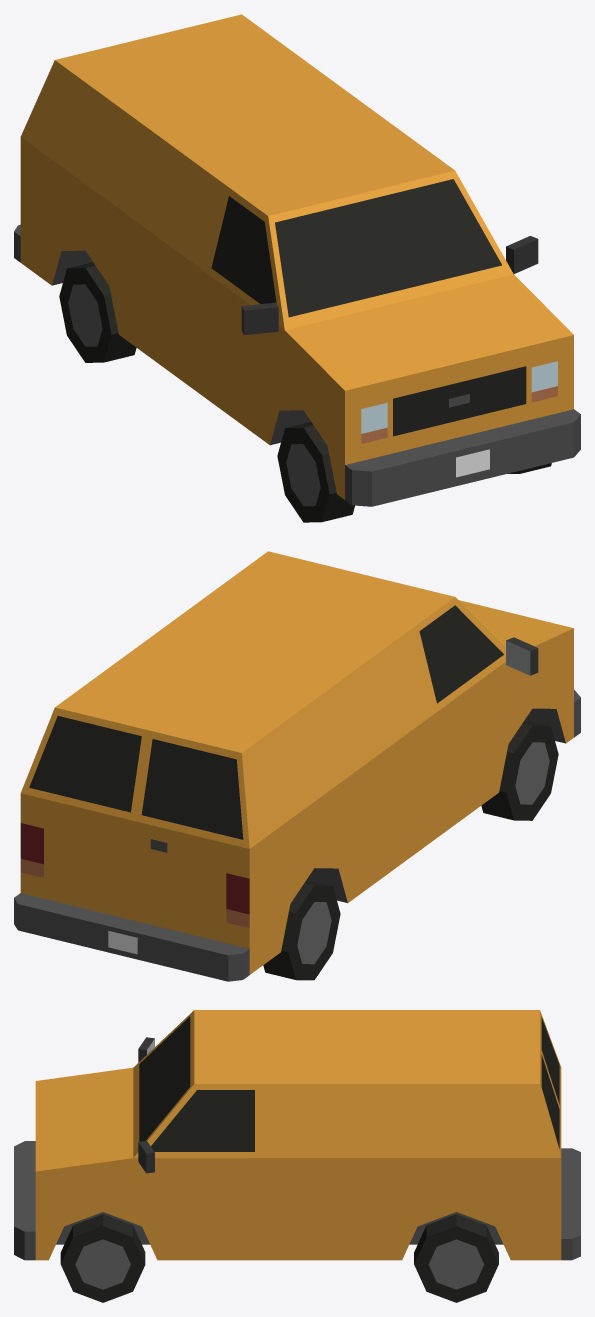
The model's file is Veh_Van_01_Yellow.glb.
3 views of the same model, one above another, from view 1: azimuth 30°, elevation 25°; view 2: azimuth 150°, elevation 25°; view 3: azimuth 270°, elevation 25° (orthographic). The views are drawn at different scales.
Parts seen in each view (by area): view 1: Van_01_Yellow, Wheel_FR, Wheel_RR; view 2: Van_01_Yellow, Wheel_RR, Wheel_FR; view 3: Van_01_Yellow, Wheel_FL, Wheel_RL.
Part boxes in pixels (left/top/right/bottom): Van_01_Yellow: left=14, top=14, right=580, bottom=506; Wheel_FR: left=277, top=422, right=354, bottom=522; Wheel_RR: left=59, top=262, right=136, bottom=362; Van_01_Yellow: left=14, top=551, right=580, bottom=981; Wheel_RR: left=263, top=879, right=340, bottom=980; Wheel_FR: left=481, top=720, right=558, bottom=820; Van_01_Yellow: left=14, top=1010, right=580, bottom=1260; Wheel_FL: left=60, top=1214, right=145, bottom=1302; Wheel_RL: left=414, top=1214, right=498, bottom=1302.
Bounding box in the file's own units: 1.38 × 1.16 × 2.84.
1 material, 1 textured.
